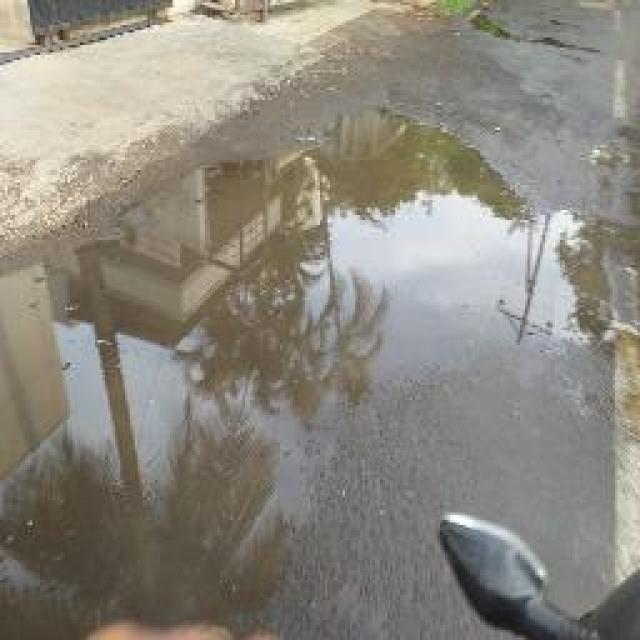puddle: (6, 108, 604, 534)
